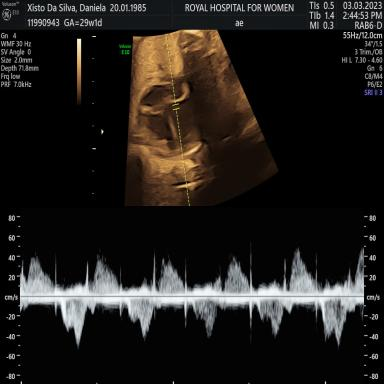Ultrasound-Waves: (27, 214, 363, 384)
